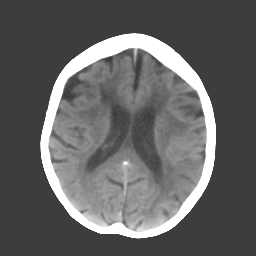ischemic: (162, 123, 197, 202)
